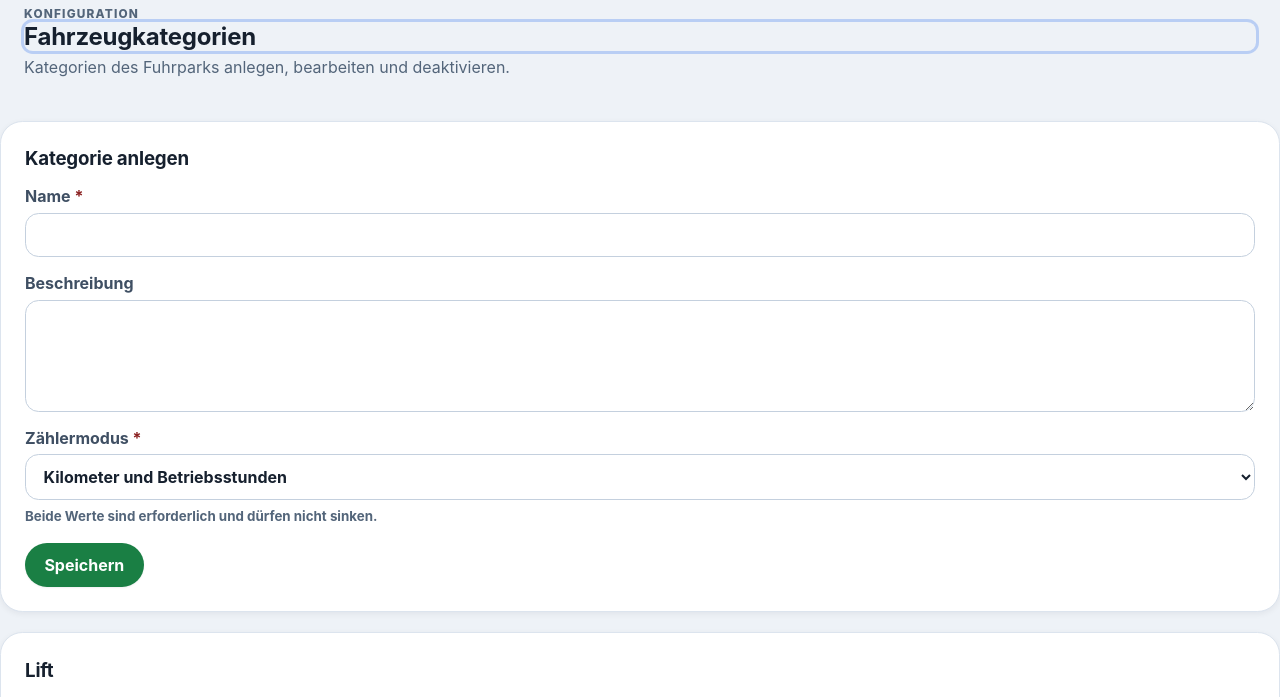
Test case: CategoryManagementPage › creates and edits categories through the category API
Expected: the heading "Lift" is shown, [25,659,54,682]
Type "Crane" into the field labelled "Name" at (640, 235), box [25,213,1255,257]
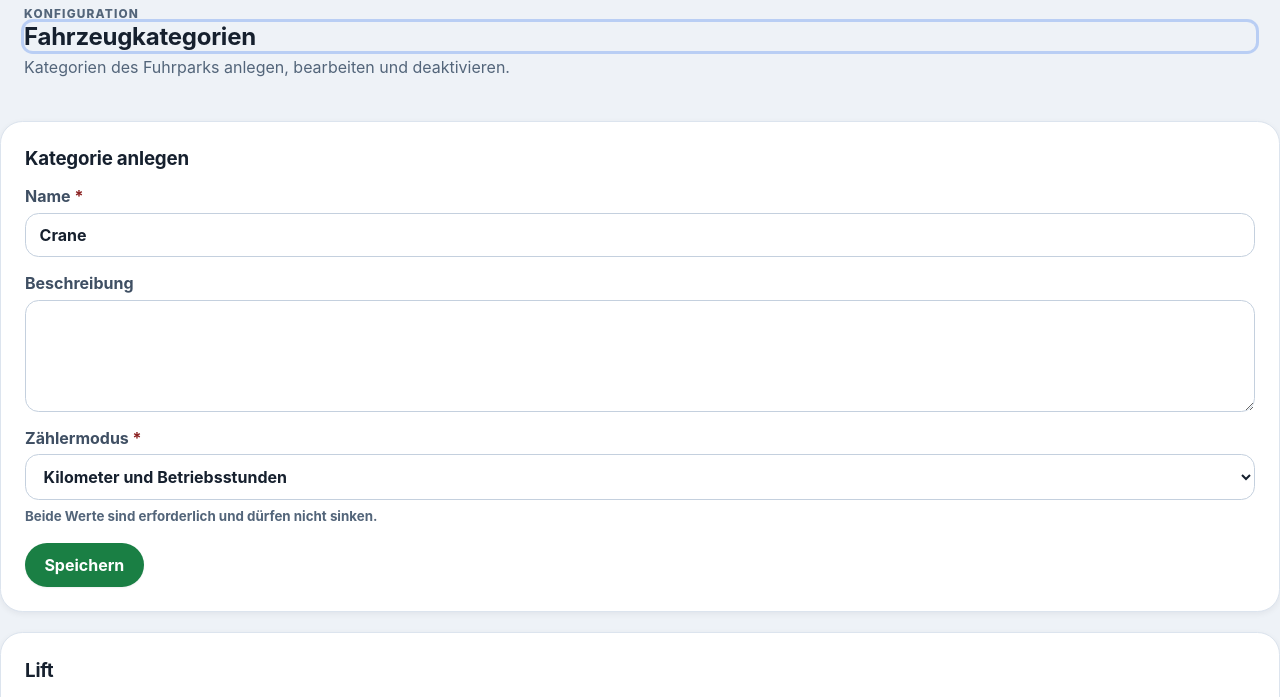
Select "Betriebsstunden" in the dropdown labelled "Zählermodus" at (640, 477), box [25,454,1255,500]
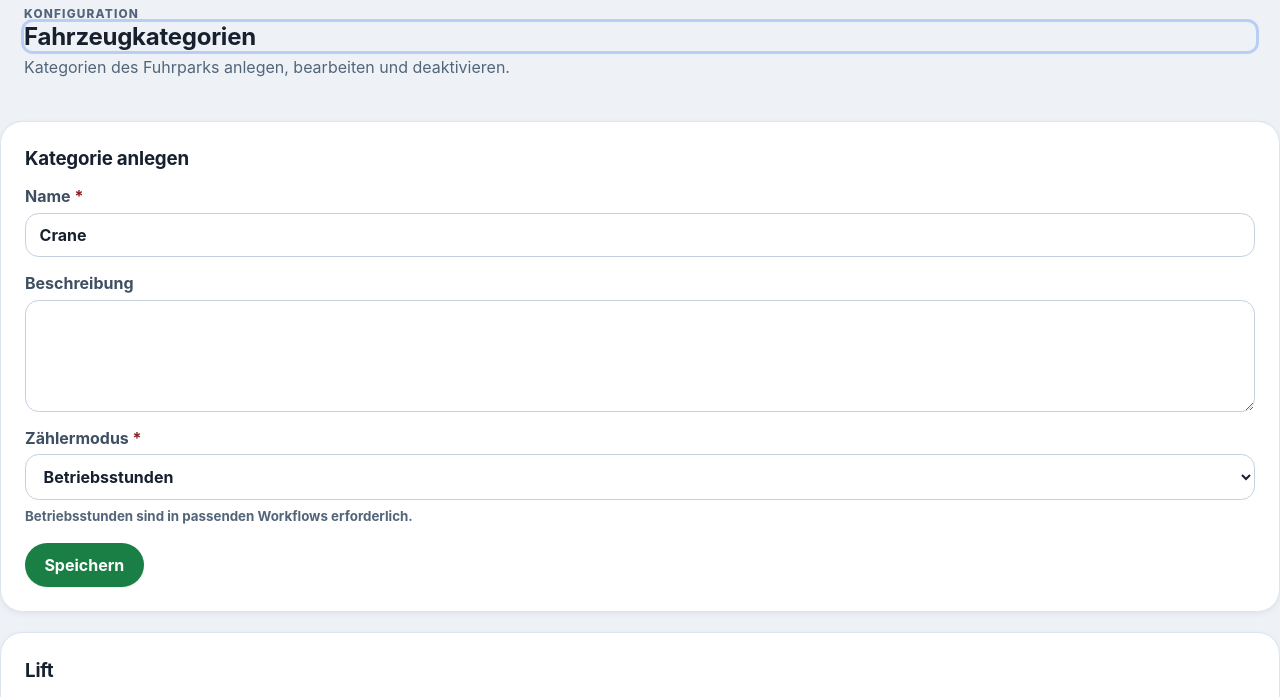
Click the button "Speichern" at (84, 565), box [25,543,144,587]
(page scrolled)
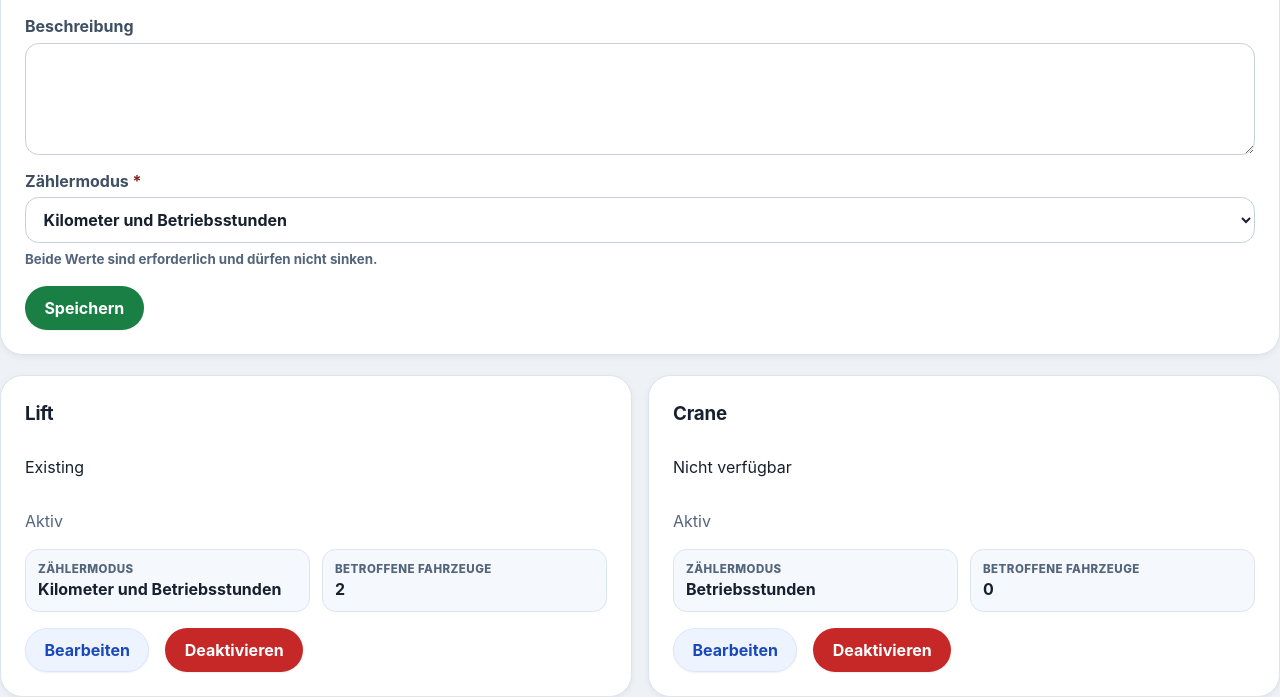
Now the text "Betriebsstunden" is shown, box [686,579,816,599]
Now the heading "Crane" is shown, box [673,402,727,425]
Click the button "Bearbeiten" below "Nicht verfügbar" at (735, 650), box [673,628,797,672]
(page scrolled)
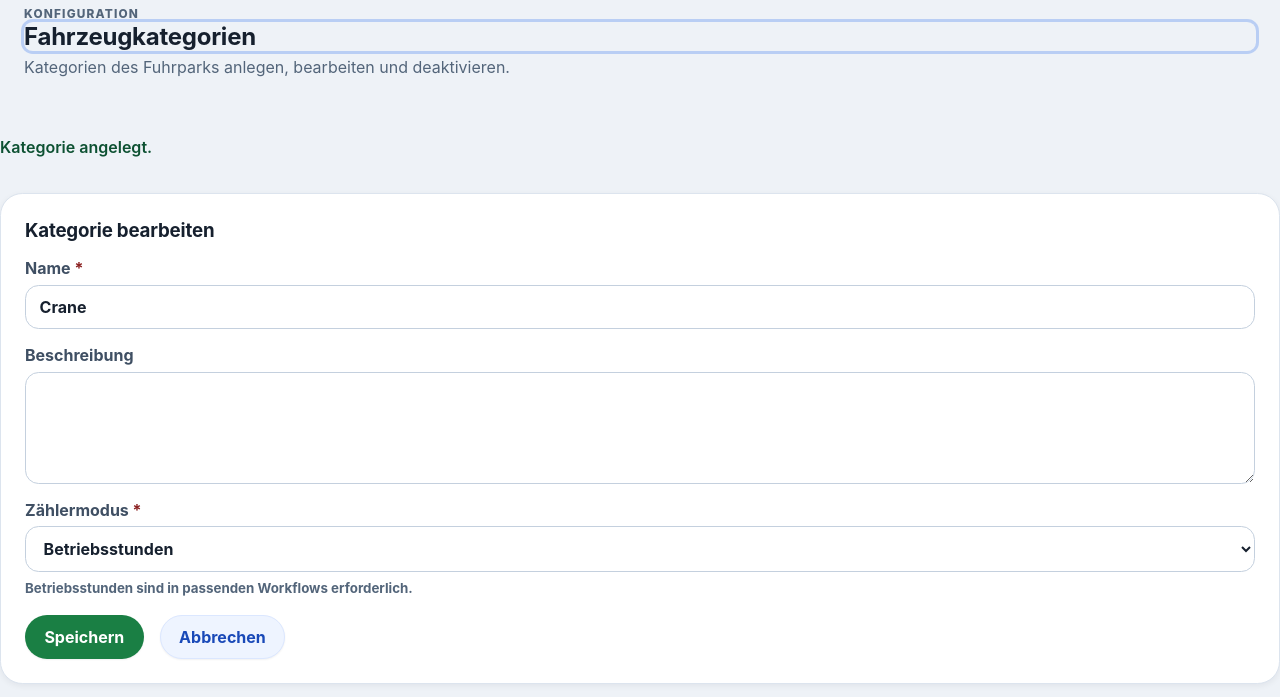
Replace the text in the field labelled "Name" with "Tower crane" at (640, 307), box [25,285,1255,329]
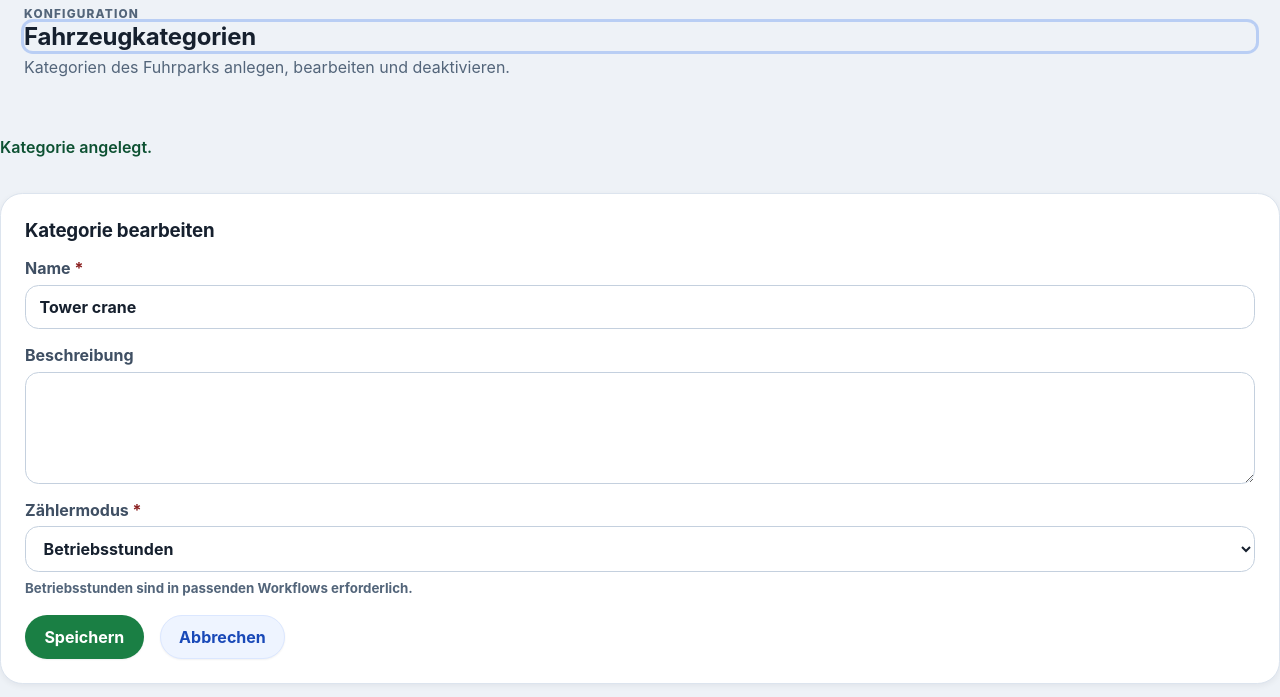
Click the button "Speichern" at (84, 637), box [25,615,144,659]
(page scrolled)
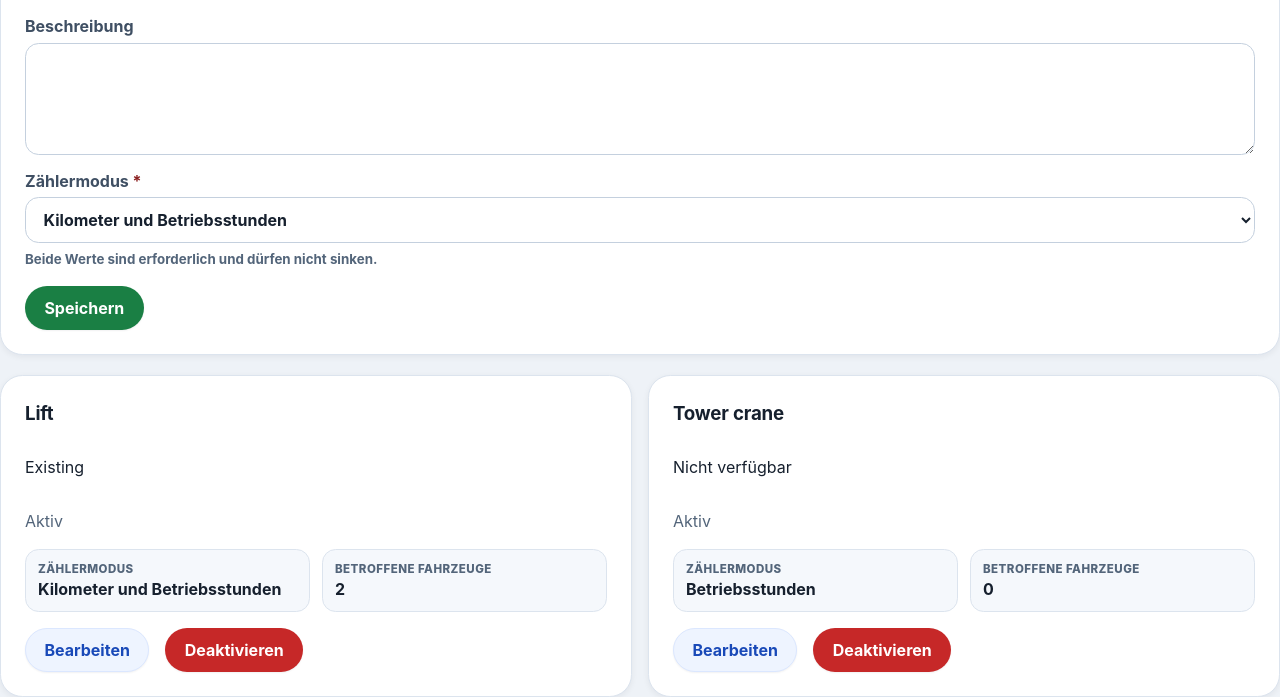
Now the heading "Tower crane" is shown, box [673,402,784,425]
